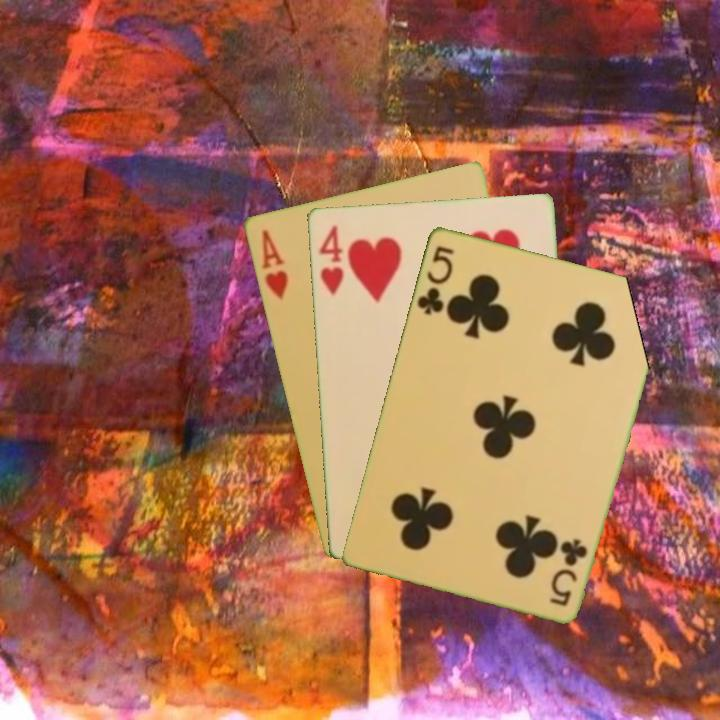4h: (315, 221, 346, 298)
5c: (413, 242, 457, 318), (546, 534, 590, 609)
Ah: (257, 226, 291, 302)
